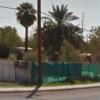Palm tree: (14, 4, 82, 61)
